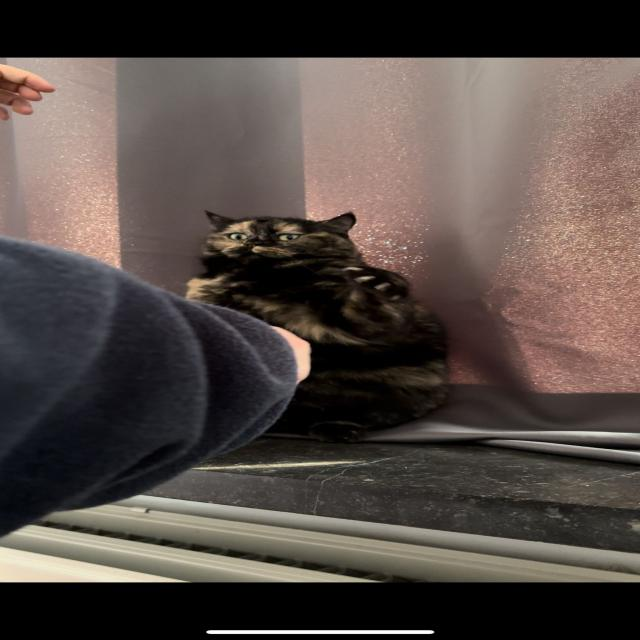authorized: (184, 209, 452, 443)
